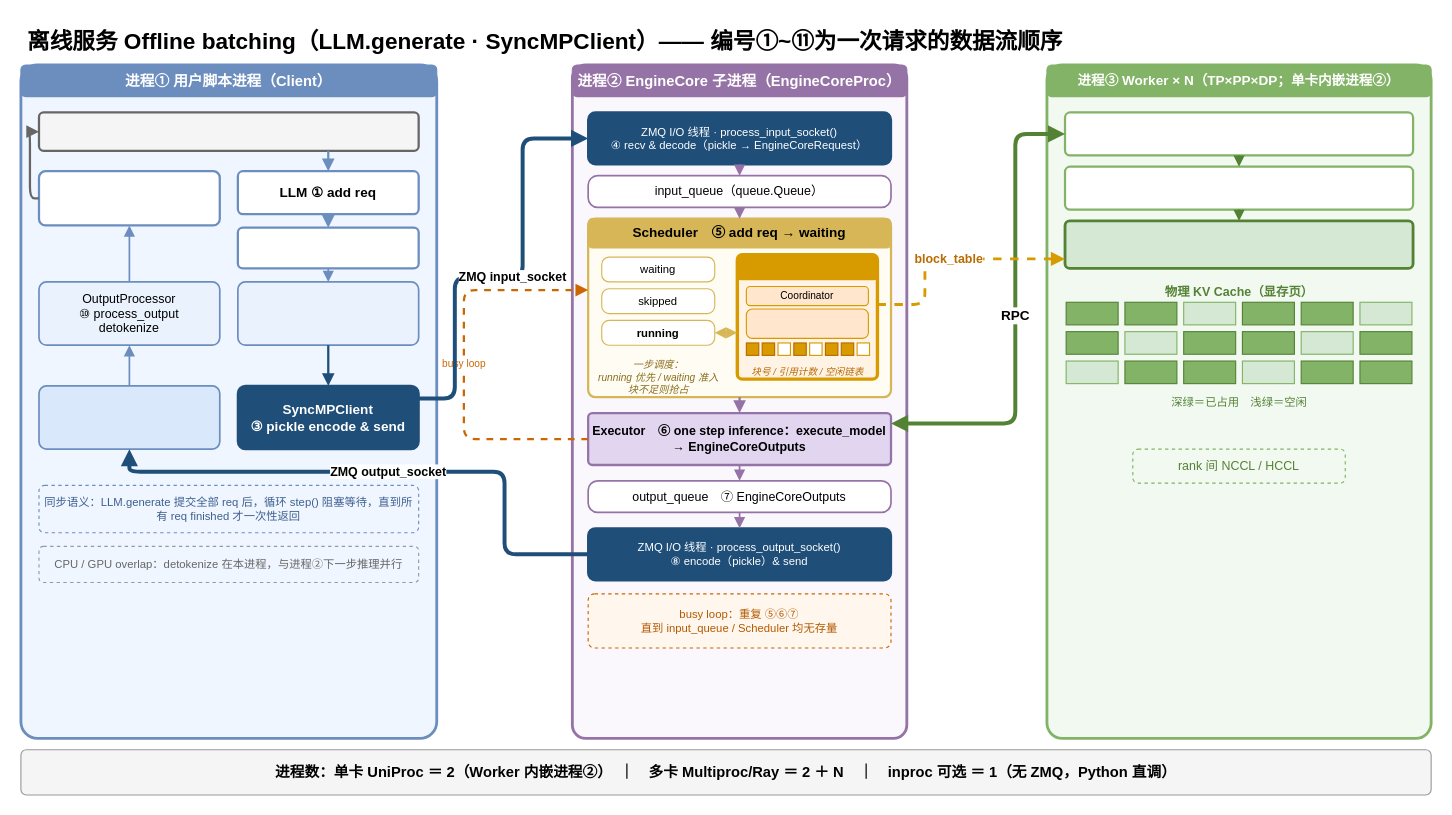
The diagram is 1452 pixels wide and 815 high, and some of its shapes have lost their labels. The shapes that lost their labels are listed below. From the top down, each one's centre as x and y in pixels, then its label:
At [228,131]: "Python 脚本 / Notebook：llm.generate(prompts)".
At [1238,133]: "Worker".
At [128,197]: "RequestOutput[] ⑪ 全部完成后统一返回".
At [1238,187]: "ModelRunner · 模型权重".
At [327,247]: "LLMEngine（同步前端）".
At [1238,244]: "GPU / NPU".
At [806,267]: "★ KVCacheManager".
At [328,313]: "InputProcessor ② tokenize / 参数校验 封装 EngineCoreRequest".
At [806,323]: "BlockPool allocate / free".
At [129,417]: "SyncMPClient 输出接收 ⑨ recv & decode".
